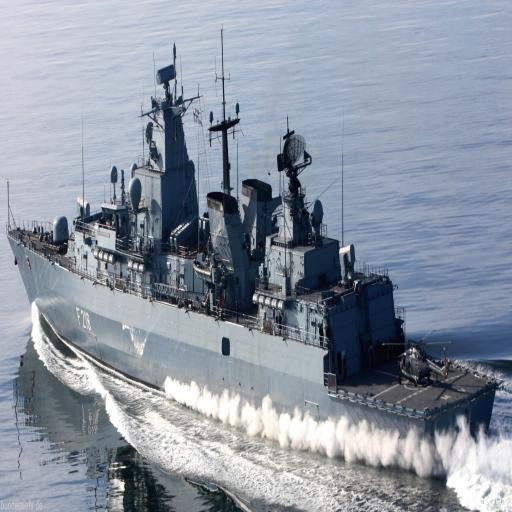Fragata: (2, 16, 502, 492)
